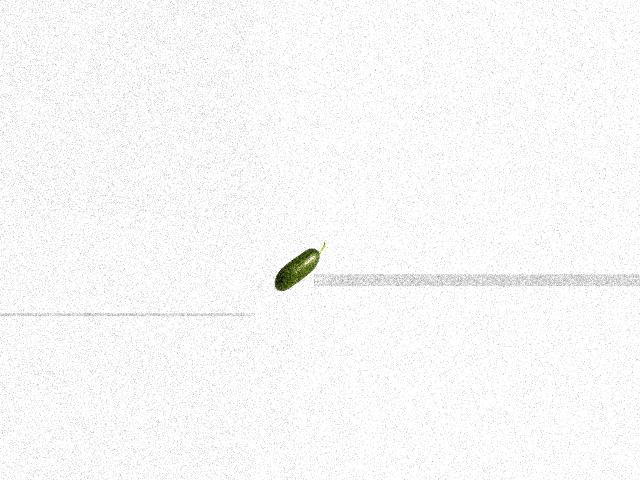cucumber: (275, 242, 326, 291)
